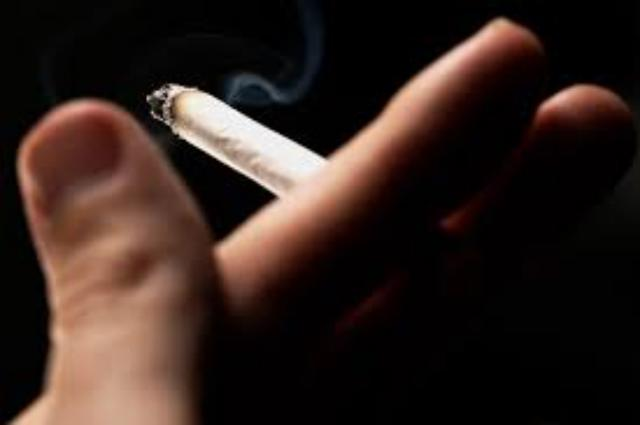Cigarette: (149, 81, 367, 220)
